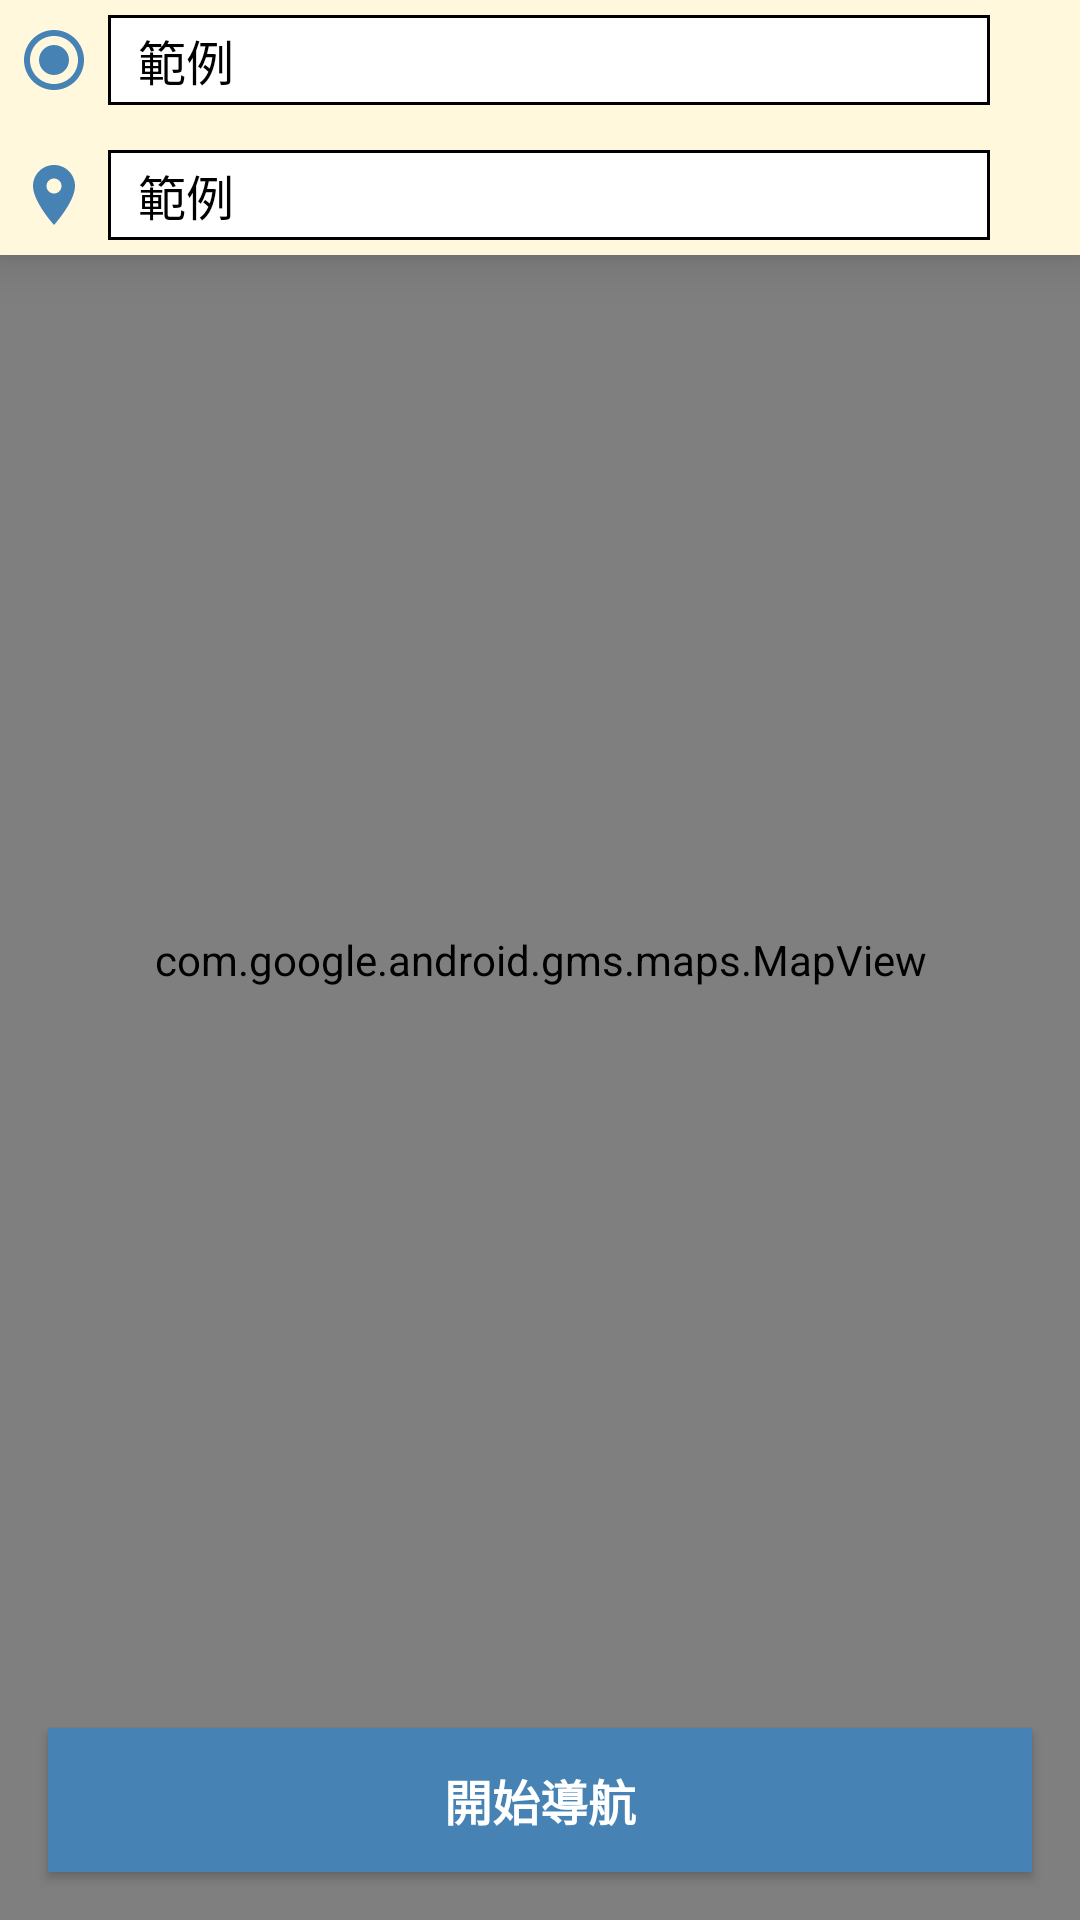

Where to tap for icons on this 1080*1920 app screen, as (x=x, y=y):
destination: (x=54, y=195)
origin: (x=54, y=60)
